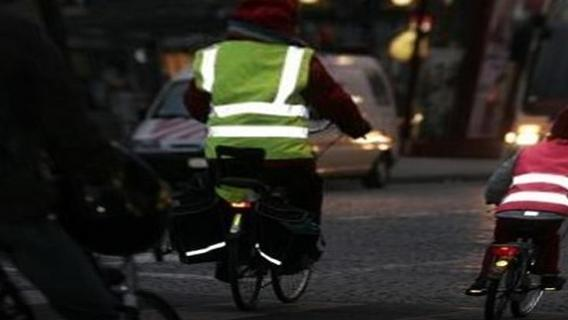Vest: (196, 37, 307, 162)
